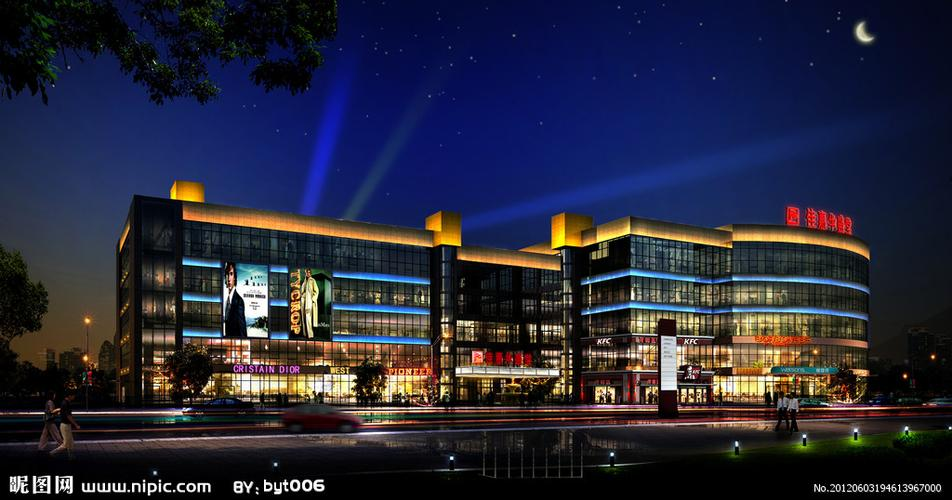buildings: (100, 187, 883, 417)
